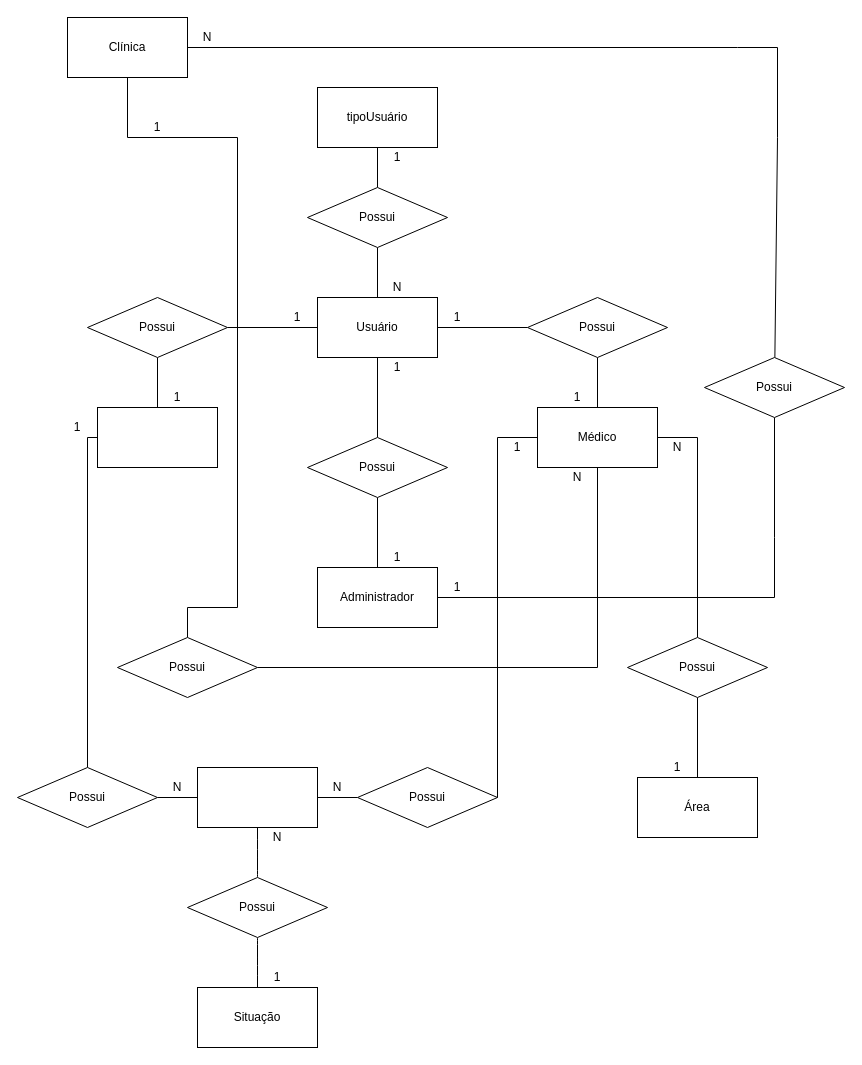
The diagram is 862 pixels wide and 1065 high, and some of its shapes have lost their labels. The box of each missing label's shape, as (x1, y1, x2, y2) in pixels:
Consulta: (196, 766, 318, 828)
Paciente: (96, 406, 218, 468)
